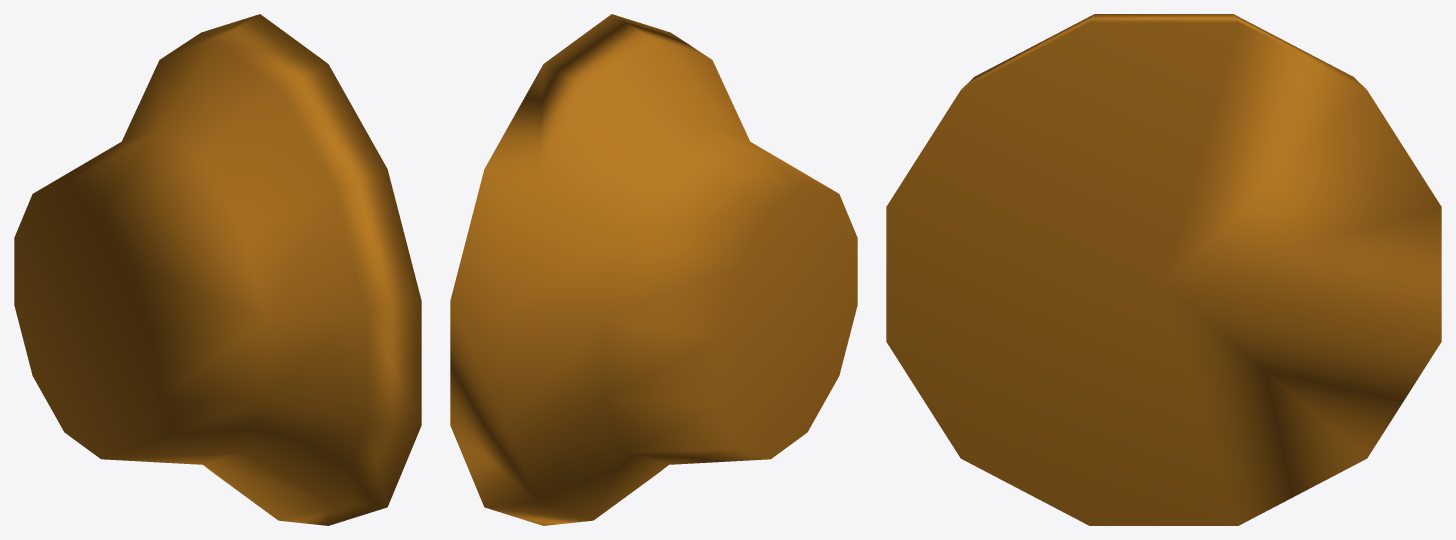
File: Plunger_Handle.fbx
3 renders of one model, left to right at view 1: azimuth 30°, elevation 25°; view 2: azimuth 150°, elevation 25°; view 3: azimuth 270°, elevation 25°, orthographic. The views are drawn at different scales.
Visible parts, largest first — view 1: Plunger_Handle; view 2: Plunger_Handle; view 3: Plunger_Handle.
Part boxes in pixels (x1,y1,x2,y2): Plunger_Handle: [14, 14, 421, 525]; Plunger_Handle: [450, 14, 857, 525]; Plunger_Handle: [886, 14, 1441, 525].
Size of the model in its own units: 2.04 by 3.87 by 3.87.
